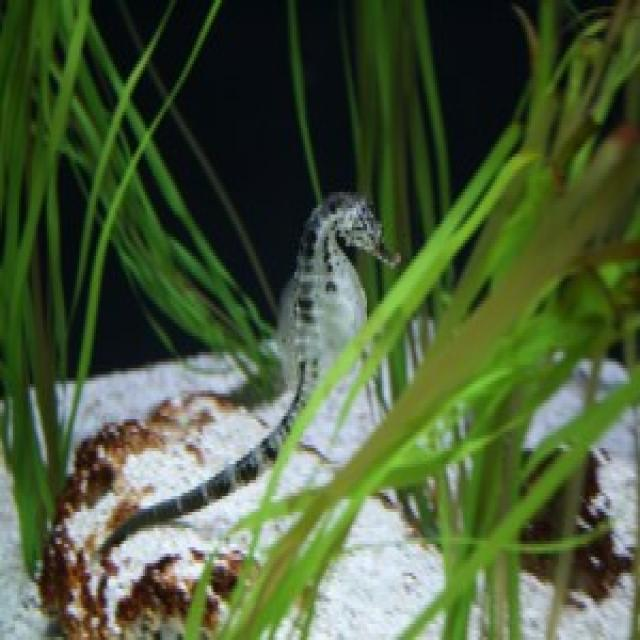Seahorse: (164, 186, 423, 538)
